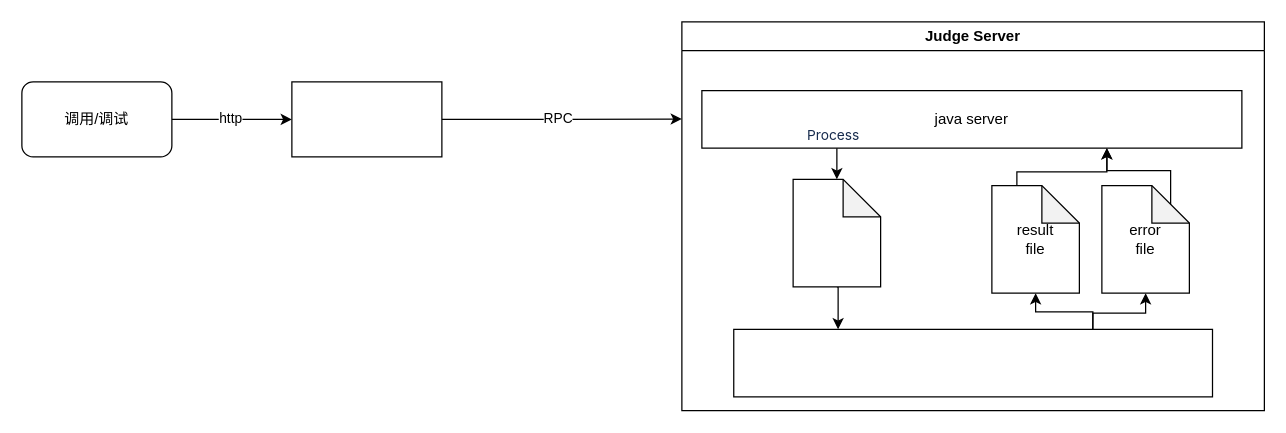
Some shapes in this 1286 by 433 pixel diagram are drawn without their labels. The shapes that lost their labels are listed below. From the top down, each one's centre as x and y in pixels, then its label:
point 366,119: api server
point 836,232: in file
point 972,362: bash / isolate
